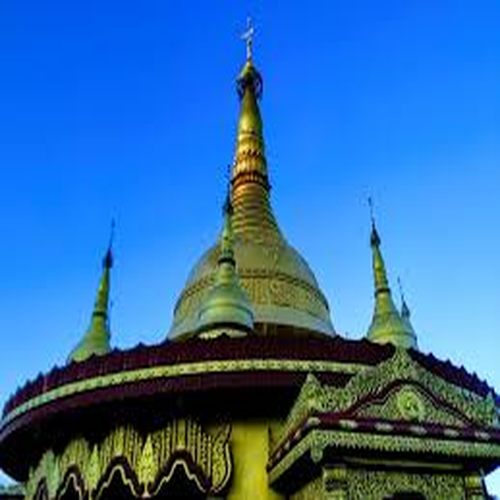Temple: (25, 22, 488, 492)
